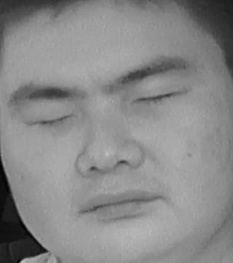blink: (132, 79, 185, 116), (28, 104, 78, 137)
mouth: (75, 184, 161, 224)
